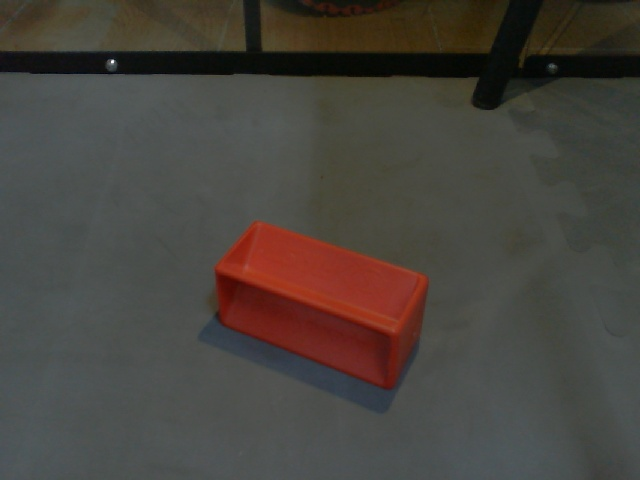RedSample: (210, 219, 431, 391)
